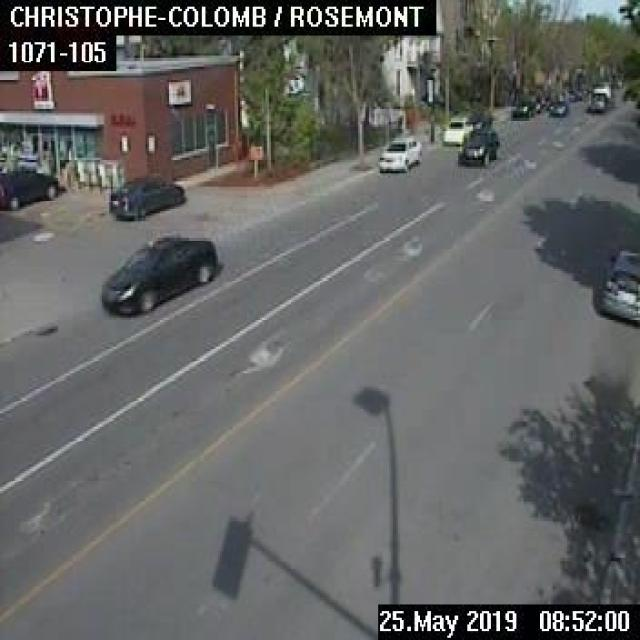vehicle: (100, 236, 215, 315), (108, 176, 182, 219), (595, 248, 638, 320), (0, 167, 56, 209), (456, 127, 498, 164), (377, 136, 420, 170), (442, 115, 471, 144), (584, 80, 608, 112), (466, 112, 490, 132), (511, 96, 534, 116), (547, 99, 565, 114)
